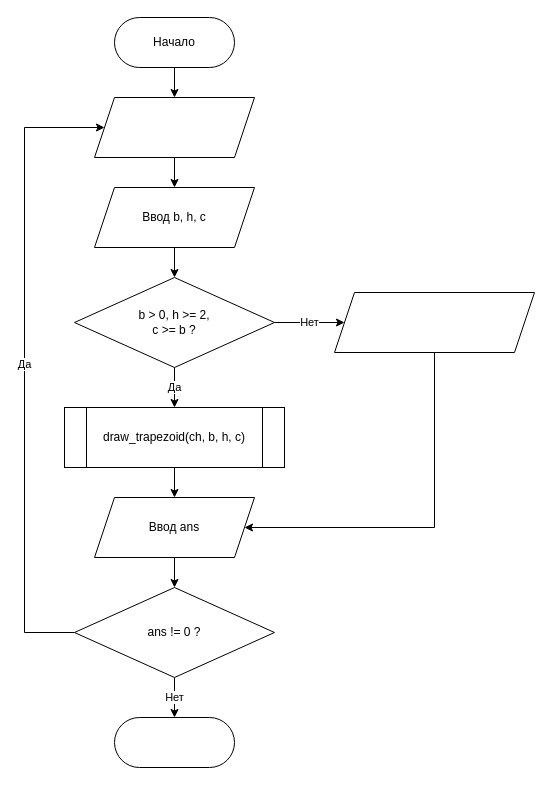
Some shapes in this 552 by 785 pixel diagram are drawn without their labels. Each missing label, with the centre of its shape:
"Ввод ch" goes at pixel 174 127.
"Вывод: ошибка размеров" goes at pixel 434 322.
"Конец" goes at pixel 174 742.
